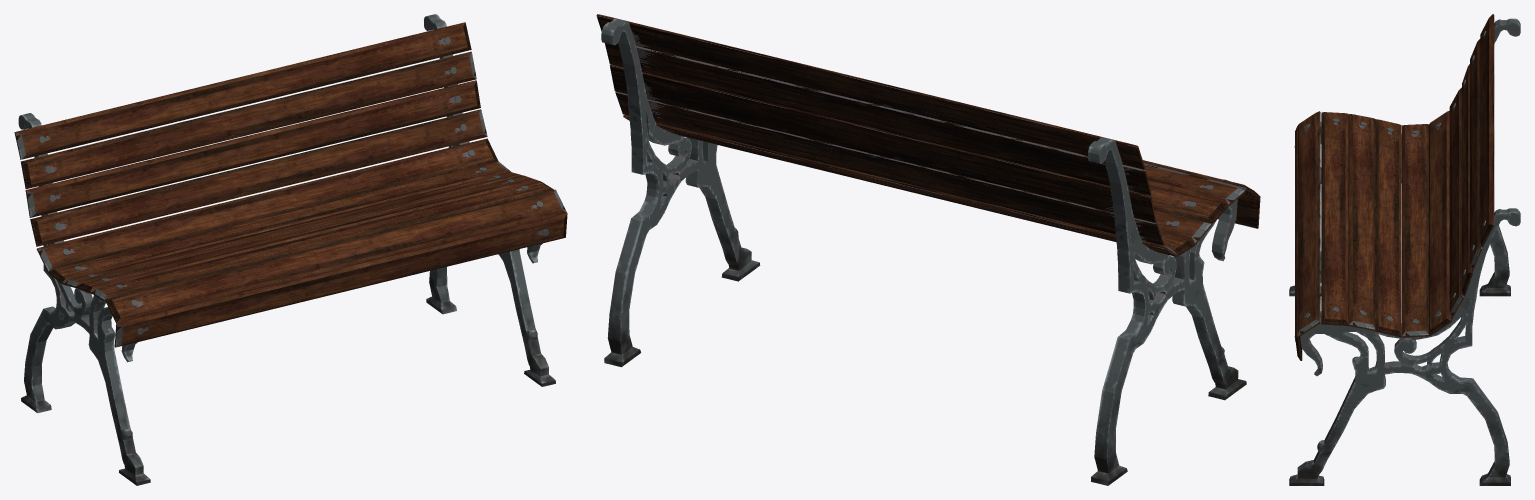
Rendered from Save seat.fbx.
3 views of the same model, side by side, from view 1: azimuth 30°, elevation 25°; view 2: azimuth 150°, elevation 25°; view 3: azimuth 270°, elevation 25° (orthographic). The views are drawn at different scales.
Parts seen in each view (by area): view 1: Banco de Save; view 2: Banco de Save; view 3: Banco de Save.
Boxes of the visible parts, x1,y1,x2,y2 form: Banco de Save: (14, 14, 567, 485); Banco de Save: (596, 14, 1260, 485); Banco de Save: (1289, 14, 1520, 485).
Size of the model in its own units: 169 by 102 by 78.45.
1 material, 1 textured.
